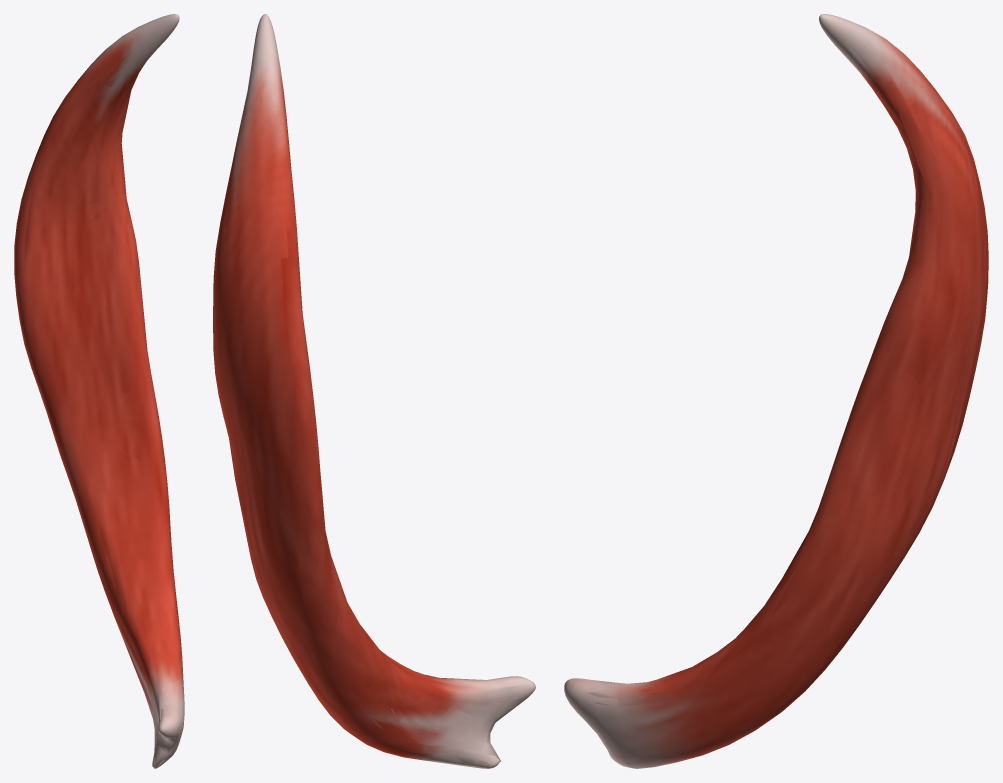
The model's file is R Semimembranosus.fbx.
3 renders of one model, left to right at view 1: azimuth 30°, elevation 25°; view 2: azimuth 150°, elevation 25°; view 3: azimuth 270°, elevation 25°, orthographic. The views are drawn at different scales.
Parts seen in each view (by area): view 1: R Semimembranosus low, R Semimembranosus; view 2: R Semimembranosus, R Semimembranosus low; view 3: R Semimembranosus, R Semimembranosus low.
Part boxes in pixels (x1,y1,x2,y2): R Semimembranosus low: [19, 35, 183, 767]; R Semimembranosus: [14, 14, 184, 768]; R Semimembranosus: [213, 14, 535, 768]; R Semimembranosus low: [214, 18, 527, 767]; R Semimembranosus: [564, 14, 988, 768]; R Semimembranosus low: [568, 35, 987, 766].
Bounding box in the file's own units: 12.71 × 64.96 × 30.87.
